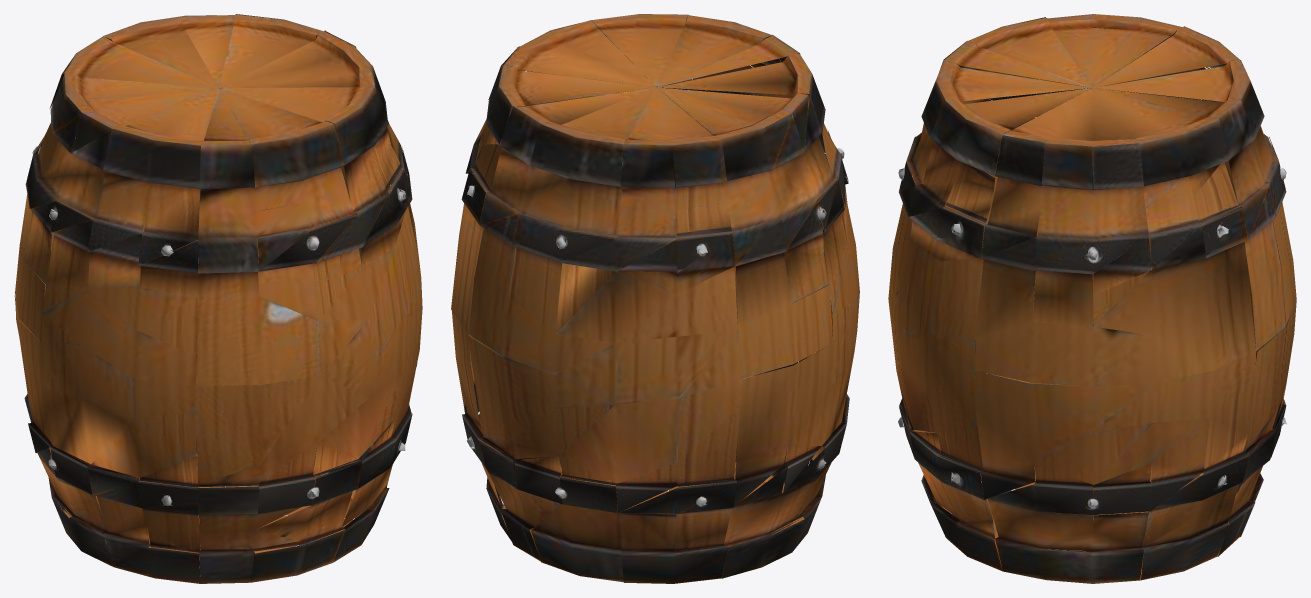
Rendered from barrel_1.glb.
3 views of the same model, side by side, from view 1: azimuth 30°, elevation 25°; view 2: azimuth 150°, elevation 25°; view 3: azimuth 270°, elevation 25° (orthographic).
Parts seen in each view (by area): view 1: Mesh_0; view 2: Mesh_0; view 3: Mesh_0.
Part boxes in pixels (bbox=[...]): Mesh_0: bbox=[14, 14, 422, 583]; Mesh_0: bbox=[451, 14, 859, 583]; Mesh_0: bbox=[888, 14, 1296, 583].
Bounding box in the file's own units: 0.592 × 0.7021 × 0.5922.
Materials: 1 (1 with a texture image).
